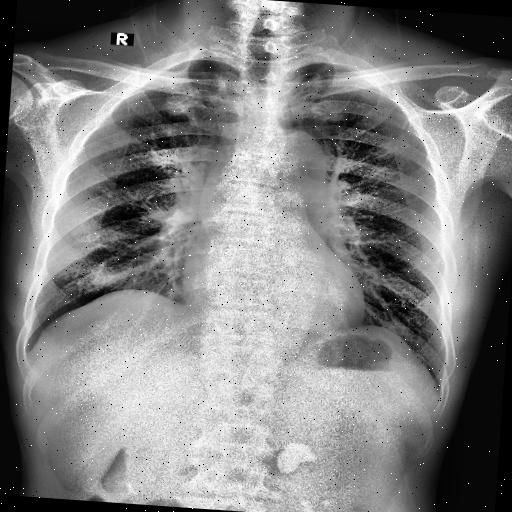0- Aortic enlargement: (258, 124, 329, 210), (270, 127, 334, 204), (273, 128, 331, 203)
